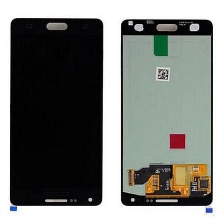phone: (118, 15, 215, 208), (8, 14, 104, 207)
